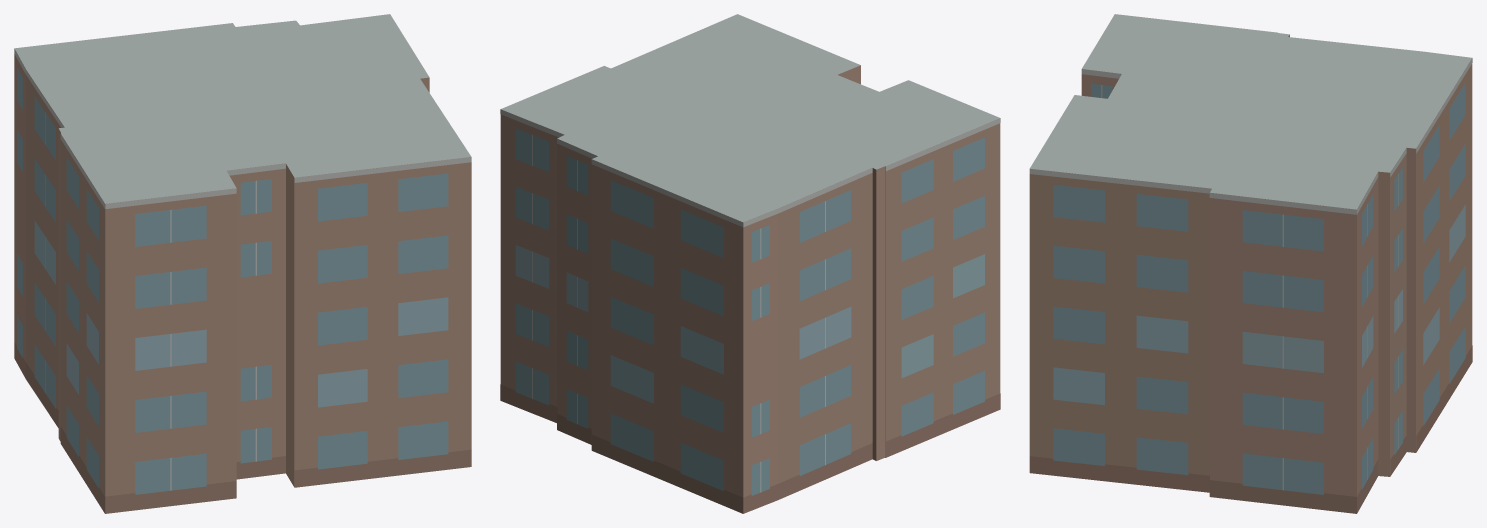
Rendered from survey-upis-32902553.glb.
3 renders of one model, left to right at view 1: azimuth 30°, elevation 25°; view 2: azimuth 150°, elevation 25°; view 3: azimuth 270°, elevation 25°, orthographic. The views are drawn at different scales.
Visible parts, largest first — view 1: survey-upis-32902553.tmp; view 2: survey-upis-32902553.tmp; view 3: survey-upis-32902553.tmp.
Part boxes in pixels (x1,y1,x2,y2): survey-upis-32902553.tmp: [14, 14, 471, 513]; survey-upis-32902553.tmp: [500, 14, 1000, 513]; survey-upis-32902553.tmp: [1029, 14, 1472, 513].
Size of the model in its own units: 19.58 by 14.2 by 18.74.
